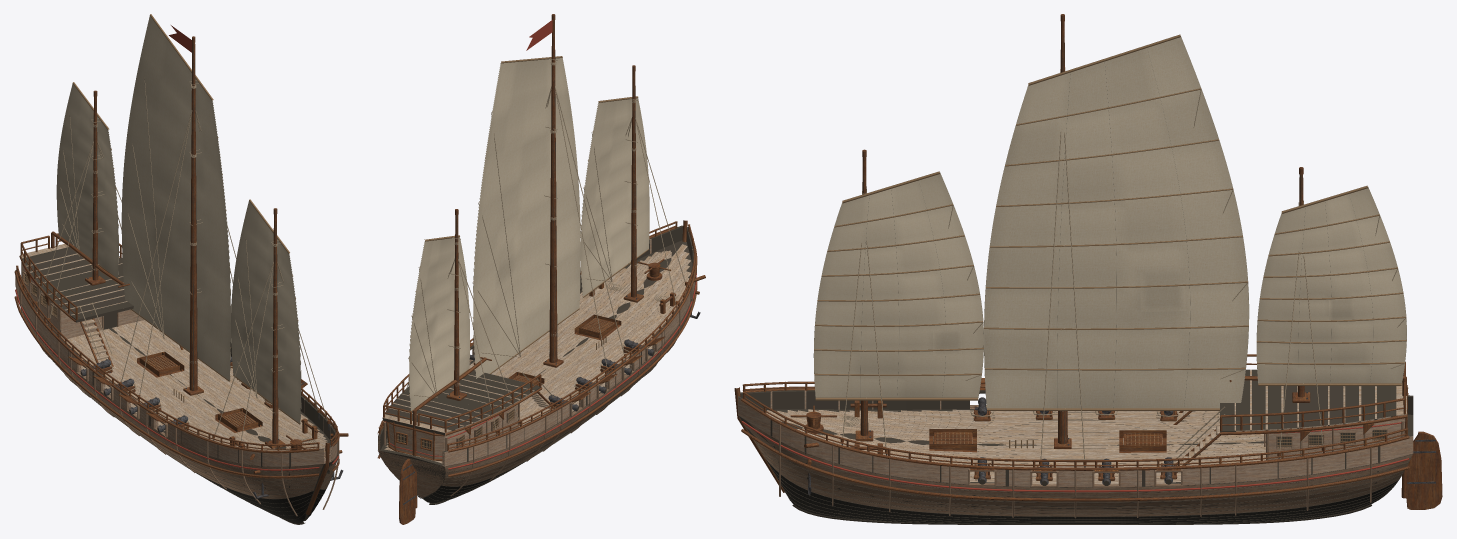
File: fuchuan-lod0.glb
The picture shows the model from 3 angles, left to right: view 1: azimuth 30°, elevation 25°; view 2: azimuth 150°, elevation 25°; view 3: azimuth 270°, elevation 25°; orthographic projection. The views are drawn at different scales.
Visible parts, largest first — view 1: sail_1, hull, deck, sail_0, sail_2, shadow_deck, deck_fittings, bulwark_rails, mast_timber_1, shadow_hull, sterncastle, mast_timber_0 (+8 smaller); view 2: sail_1, deck, hull, sail_0, sail_2, shadow_deck, deck_fittings, bulwark_rails, shadow_hull, mast_timber_1, mast_timber_0, stern_transom (+9 smaller); view 3: sail_1, hull, sail_0, sail_2, deck, shadow_hull, shadow_deck, bulwark_rails, deck_fittings, rudder_blade, sterncastle, rigging_1.
Part boxes in pixels (x1,y1,x2,y2): sail_1: (121, 14, 231, 381); hull: (14, 270, 339, 524); deck: (19, 244, 330, 450); sail_0: (231, 199, 301, 424); sail_2: (56, 82, 119, 278); shadow_deck: (22, 247, 133, 322); deck_fittings: (21, 262, 348, 498); bulwark_rails: (16, 233, 338, 452); mast_timber_1: (189, 43, 197, 390); shadow_hull: (15, 270, 337, 521); sterncastle: (23, 266, 144, 339); mast_timber_0: (272, 214, 278, 443); sail_1: (472, 56, 580, 378); deck: (382, 244, 690, 463); hull: (377, 220, 697, 504); sail_0: (580, 96, 649, 297); sail_2: (408, 235, 469, 411); shadow_deck: (383, 370, 540, 435); deck_fittings: (383, 259, 705, 461); bulwark_rails: (378, 221, 695, 451); shadow_hull: (378, 225, 695, 502); mast_timber_1: (549, 20, 557, 362); mast_timber_0: (631, 71, 636, 297); stern_transom: (388, 423, 444, 458); sail_1: (984, 34, 1249, 410); hull: (734, 387, 1413, 524); sail_0: (813, 171, 983, 400); sail_2: (1256, 185, 1406, 386); deck: (766, 369, 1407, 484); shadow_hull: (738, 390, 1413, 523); shadow_deck: (1220, 369, 1396, 432); bulwark_rails: (742, 354, 1408, 467); deck_fittings: (790, 385, 1407, 494); rudder_blade: (1406, 431, 1442, 509); sterncastle: (1266, 418, 1404, 460); rigging_1: (1039, 132, 1086, 473).
Bounding box in the file's own units: 10.4 × 26.65 × 33.55.
Materials: 13 (8 with a texture image).
